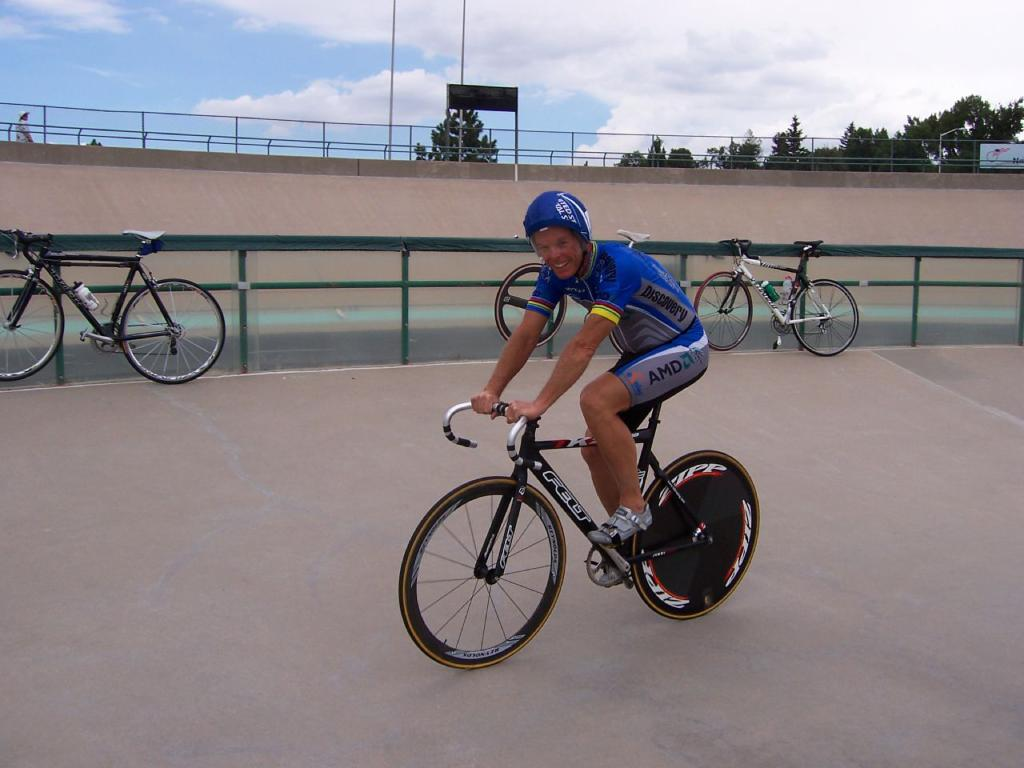Bike_toward: (397, 396, 768, 672)
